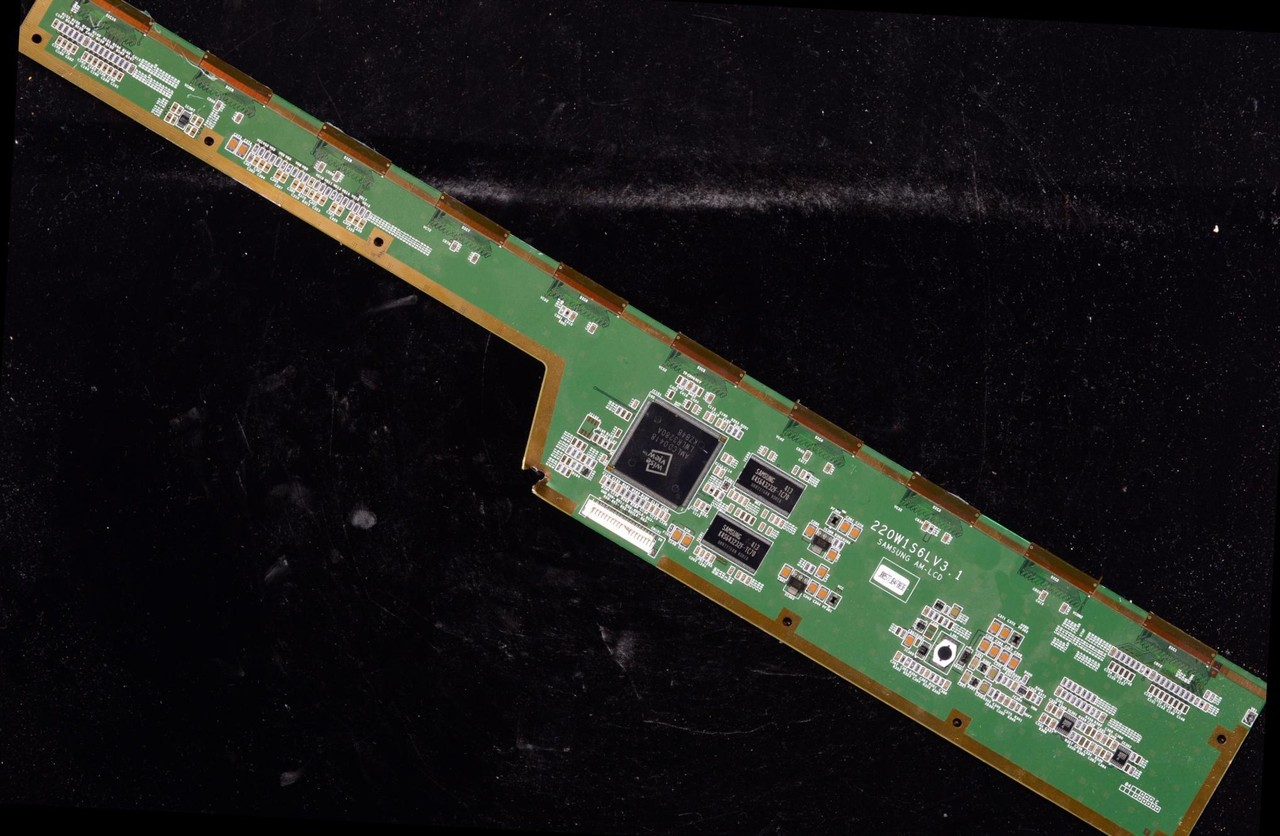Capacitor: (805, 576, 825, 600), (814, 584, 835, 605), (975, 635, 996, 656), (224, 131, 243, 154), (996, 622, 1017, 642), (1006, 653, 1029, 671), (838, 517, 858, 537), (986, 616, 1006, 636), (234, 139, 252, 160), (976, 680, 995, 699), (988, 643, 1006, 663), (778, 563, 797, 581), (922, 622, 940, 641), (997, 647, 1016, 665), (847, 522, 863, 543), (582, 321, 604, 336), (678, 531, 695, 550), (824, 547, 842, 564), (957, 672, 978, 686), (803, 522, 819, 540), (985, 665, 1003, 681), (668, 527, 685, 543), (949, 603, 966, 619), (967, 654, 984, 670), (331, 168, 348, 184), (819, 461, 837, 476), (902, 633, 918, 649), (314, 156, 329, 173), (234, 105, 246, 126), (567, 310, 582, 326), (816, 564, 832, 579), (468, 251, 483, 265), (211, 96, 224, 112), (890, 650, 904, 664), (316, 195, 331, 208), (917, 521, 933, 533), (1096, 713, 1112, 725), (553, 305, 569, 317), (801, 450, 815, 463), (662, 512, 676, 525), (1052, 685, 1066, 698), (326, 201, 340, 214), (787, 464, 802, 476), (942, 531, 954, 546), (1023, 688, 1035, 703), (97, 62, 112, 74), (942, 680, 955, 693), (287, 177, 300, 190), (704, 392, 718, 404), (250, 153, 262, 167), (703, 393, 718, 404), (1105, 646, 1120, 657), (1101, 753, 1117, 763), (1044, 701, 1057, 713), (67, 43, 80, 55), (187, 124, 200, 136), (256, 157, 268, 170), (334, 204, 346, 217), (996, 693, 1007, 707), (448, 241, 462, 252), (695, 386, 707, 398), (920, 605, 932, 617), (53, 36, 65, 48), (116, 70, 128, 82), (194, 116, 206, 128), (684, 382, 697, 393), (1201, 703, 1214, 714), (1055, 707, 1066, 720), (83, 54, 96, 65), (357, 219, 370, 230), (726, 564, 736, 578), (81, 48, 90, 63), (103, 67, 118, 76), (280, 170, 289, 185), (667, 388, 678, 400), (629, 399, 641, 410), (726, 502, 738, 513), (1146, 685, 1157, 697), (1170, 698, 1182, 709), (1037, 714, 1049, 725), (1094, 730, 1105, 742), (1108, 741, 1120, 752), (168, 101, 179, 113), (245, 151, 256, 163), (273, 168, 284, 180), (301, 185, 312, 197), (351, 216, 363, 227), (612, 429, 625, 439), (766, 451, 779, 461), (754, 522, 767, 532), (1009, 681, 1022, 691), (1003, 696, 1013, 709), (1093, 744, 1103, 757), (109, 69, 122, 79), (262, 162, 272, 175), (343, 213, 356, 223), (127, 61, 136, 75), (309, 194, 323, 203), (1099, 735, 1110, 746), (681, 400, 693, 410), (760, 508, 770, 520), (778, 519, 790, 529), (707, 556, 719, 566), (733, 569, 743, 581), (1106, 661, 1118, 671), (1110, 664, 1122, 674), (1116, 668, 1128, 678), (1156, 691, 1166, 703), (65, 41, 75, 53), (162, 111, 172, 123), (698, 499, 707, 512), (764, 527, 777, 536), (1180, 706, 1193, 715), (82, 35, 91, 48), (92, 61, 106, 69), (707, 414, 717, 425), (624, 412, 635, 422), (714, 417, 724, 428), (720, 421, 731, 431), (642, 502, 653, 512), (772, 515, 782, 526), (698, 547, 708, 558), (902, 659, 913, 669), (919, 666, 929, 677), (1150, 688, 1161, 698), (1162, 693, 1172, 704), (1008, 700, 1018, 711), (1084, 725, 1095, 735), (1086, 742, 1097, 752), (691, 405, 703, 414), (597, 476, 609, 485), (766, 514, 778, 523), (1147, 671, 1159, 680), (1174, 703, 1186, 712), (89, 58, 101, 67), (306, 190, 318, 199), (297, 179, 304, 194), (710, 466, 720, 476), (657, 509, 667, 519), (745, 576, 755, 586), (1127, 673, 1137, 683), (1166, 697, 1176, 707), (1049, 720, 1059, 730), (1078, 737, 1088, 747), (307, 177, 317, 187), (675, 375, 684, 386), (758, 447, 769, 456), (734, 507, 743, 518), (693, 497, 701, 509), (52, 18, 60, 30), (62, 35, 68, 51), (703, 412, 712, 422), (728, 488, 737, 498), (614, 485, 623, 495), (742, 498, 751, 508), (653, 507, 663, 516), (694, 546, 703, 556), (739, 574, 749, 583), (1204, 690, 1213, 700), (1208, 693, 1218, 702), (725, 456, 736, 464), (717, 469, 728, 477), (609, 481, 618, 490), (732, 492, 741, 501), (648, 505, 657, 514), (606, 443, 616, 451), (703, 482, 711, 492), (703, 553, 713, 561), (923, 670, 933, 678), (1191, 698, 1202, 705), (720, 453, 729, 461), (580, 454, 588, 463), (1122, 671, 1131, 679), (737, 496, 745, 503)
IC: (594, 392, 734, 518), (731, 444, 811, 522), (694, 511, 779, 573), (1105, 742, 1139, 771), (1053, 708, 1082, 737), (808, 530, 833, 561), (577, 412, 599, 440), (175, 107, 196, 130), (914, 639, 935, 659), (912, 618, 931, 633), (1011, 684, 1029, 699)
Resistor: (250, 140, 263, 155), (550, 460, 563, 473), (1034, 695, 1047, 708), (278, 158, 291, 171), (935, 677, 948, 689), (267, 152, 280, 164), (893, 625, 904, 639), (1111, 649, 1125, 660), (1116, 652, 1130, 663), (1014, 701, 1025, 715), (1017, 707, 1031, 718), (1128, 752, 1142, 763), (561, 308, 575, 319), (1125, 659, 1140, 669), (724, 423, 736, 435), (1134, 755, 1146, 767), (261, 150, 273, 162), (284, 162, 296, 174), (829, 537, 842, 548), (1079, 687, 1090, 700), (1029, 693, 1042, 704), (1076, 702, 1089, 713), (272, 157, 285, 168), (735, 430, 749, 440), (895, 656, 909, 666), (910, 664, 924, 674), (612, 404, 624, 415), (807, 564, 819, 575), (1065, 678, 1076, 690), (1074, 685, 1086, 696), (1089, 727, 1100, 739), (289, 167, 301, 178), (329, 190, 341, 201), (334, 193, 346, 204), (351, 203, 363, 214), (356, 206, 368, 217), (941, 605, 954, 615), (1141, 668, 1154, 678), (907, 661, 920, 671), (617, 486, 628, 497), (1072, 734, 1083, 745), (295, 170, 306, 181), (300, 173, 311, 184), (317, 183, 328, 194), (346, 201, 357, 212), (568, 437, 580, 447), (563, 469, 575, 479), (717, 492, 729, 502), (637, 498, 649, 508), (736, 510, 748, 520), (945, 620, 957, 630), (1020, 673, 1032, 683), (1167, 683, 1179, 693), (1084, 690, 1096, 700), (986, 688, 998, 698), (1088, 695, 1100, 705), (70, 30, 82, 40), (168, 116, 180, 126), (91, 45, 104, 54), (731, 427, 741, 438), (572, 463, 583, 473), (558, 466, 569, 476), (623, 489, 634, 499), (898, 629, 908, 640), (926, 673, 937, 683), (1069, 681, 1079, 692), (931, 676, 942, 686), (1073, 720, 1084, 730), (1079, 722, 1090, 732), (106, 52, 116, 63), (189, 114, 200, 124), (588, 461, 600, 470), (747, 516, 759, 525), (835, 542, 847, 551), (800, 563, 812, 572), (65, 28, 77, 37), (1086, 708, 1098, 717), (96, 47, 108, 56), (256, 148, 268, 157), (324, 186, 333, 198), (1162, 680, 1175, 688), (633, 495, 643, 505), (56, 21, 66, 31), (941, 619, 951, 629), (1059, 688, 1069, 698), (76, 34, 86, 44), (87, 40, 97, 50), (341, 197, 351, 207), (363, 209, 373, 219), (712, 489, 723, 498), (1122, 656, 1133, 665), (1133, 662, 1144, 671), (1172, 685, 1183, 694), (1187, 694, 1198, 703), (1072, 699, 1083, 708), (1093, 709, 1102, 720), (1083, 739, 1092, 750), (1098, 750, 1109, 759), (312, 181, 323, 190), (1157, 677, 1169, 685), (1181, 692, 1193, 700), (111, 55, 123, 63), (174, 106, 186, 114), (574, 439, 583, 449), (559, 454, 568, 464), (707, 486, 717, 495), (628, 493, 638, 502), (927, 610, 937, 619), (931, 613, 941, 622), (62, 24, 71, 34), (1153, 674, 1163, 683), (1059, 678, 1069, 687), (1178, 689, 1188, 698), (1064, 692, 1074, 701), (1069, 696, 1079, 705), (1122, 764, 1132, 773), (101, 49, 111, 58), (580, 444, 591, 452), (742, 514, 753, 522), (1066, 732, 1077, 740), (1106, 737, 1114, 748), (120, 62, 131, 70), (620, 409, 629, 418), (564, 446, 573, 455), (574, 452, 583, 461), (569, 449, 579, 457), (1137, 666, 1147, 674), (1128, 767, 1138, 775), (118, 57, 126, 67), (584, 458, 593, 466), (569, 459, 577, 468), (937, 617, 946, 625), (1084, 705, 1093, 713), (565, 458, 573, 466), (184, 125, 192, 133)
